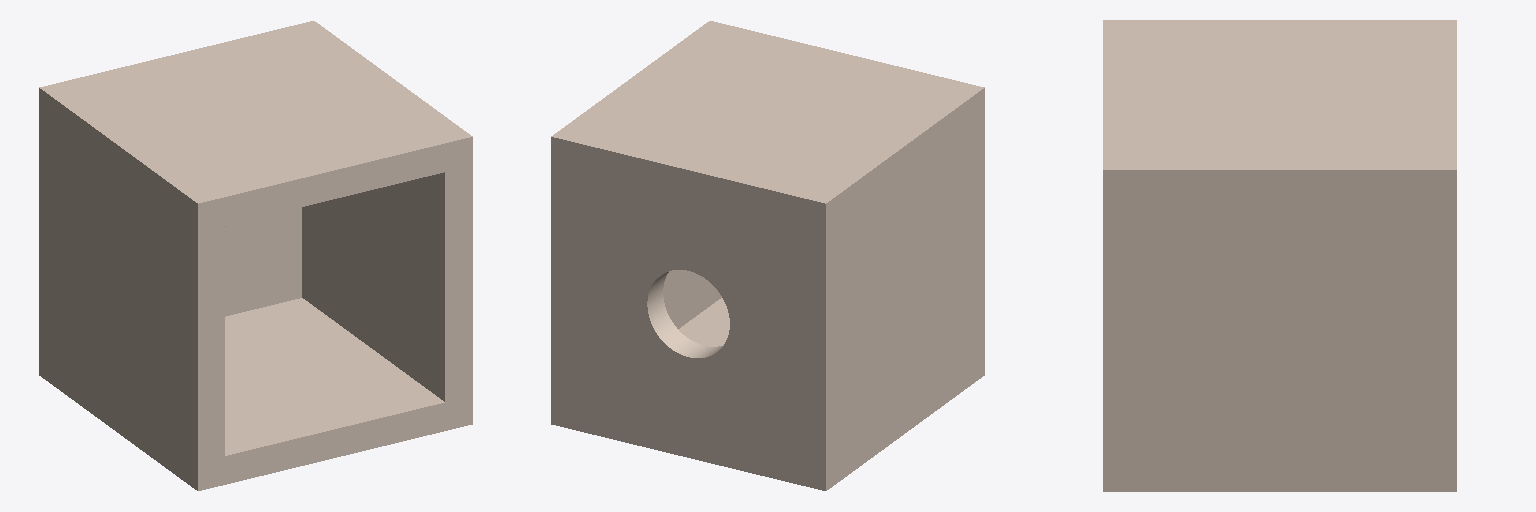
robot.urdf — board:
<?xml version="1.0"?>
<robot name="board">
    <material name="brown">
        <color rgba="0.87 0.81 0.76 1.0" />
    </material>

    <link concave="yes" name="board">
        <inertial>
            <origin xyz="0 0 0" rpy="0 0 0" />
            <mass value="1.86" />
            <inertia ixx="1" ixy="0" ixz="0" iyy="1" iyz="0" izz="1" />
        </inertial>

        <visual>
            <origin xyz="0 0 0" rpy="0 0 0" />
            <geometry>
                <mesh filename="package://bopt_gmm/objects/peg_in_hole_board/board_easy.obj" scale="1 1 1" />
            </geometry>
            <material name="brown" />
        </visual>

        <collision concave="yes">
            <origin xyz="0 0 0" rpy="0 0 0" />
            <geometry>
                <mesh filename="package://bopt_gmm/objects/peg_in_hole_board/board_easy.obj" scale="1 1 1" />
            </geometry>
        </collision>
    </link>

    <joint name="board__circle" type="fixed">
        <parent link="board" />
        <child link="circle" />
        <origin xyz="0.0 0.20 0.0" rpy="0 0 0" />
    </joint>

    <link name="circle">
        <inertial>
            <origin xyz="0 0 0" rpy="0 0 0" />
            <mass value="0" />
            <inertia ixx="1" ixy="0" ixz="0" iyy="1" iyz="0" izz="1" />
        </inertial>
    </link>

</robot>

--- Facts derived from the render (not from the file) ---
The picture shows the robot from 3 angles, left to right: view 1: azimuth 30°, elevation 25°; view 2: azimuth 150°, elevation 25°; view 3: azimuth 270°, elevation 25°; orthographic projection.
Model board with 2 links and 1 joints (1 fixed), rooted at board, posed every joint at zero.
Visible links, largest first — view 1: board; view 2: board; view 3: board.
Link boxes in pixels (x1,y1,x2,y2): board: (39, 21, 472, 490); board: (551, 21, 984, 490); board: (1103, 20, 1456, 491).
Bounding box of the posed robot: 0.2 × 0.2 × 0.2 m (x, y, z).
1 mesh visuals loaded from 1 distinct referenced files (1 OBJ).